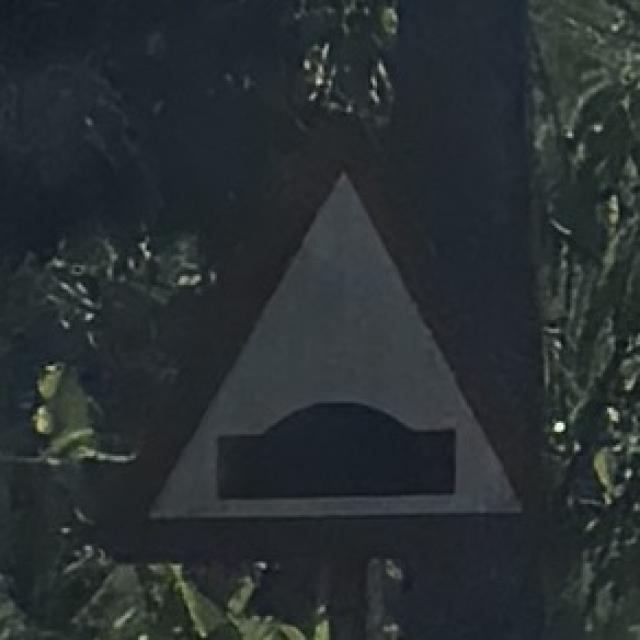HUMP_OR_ROUGH_ROAD: (84, 124, 562, 564)
